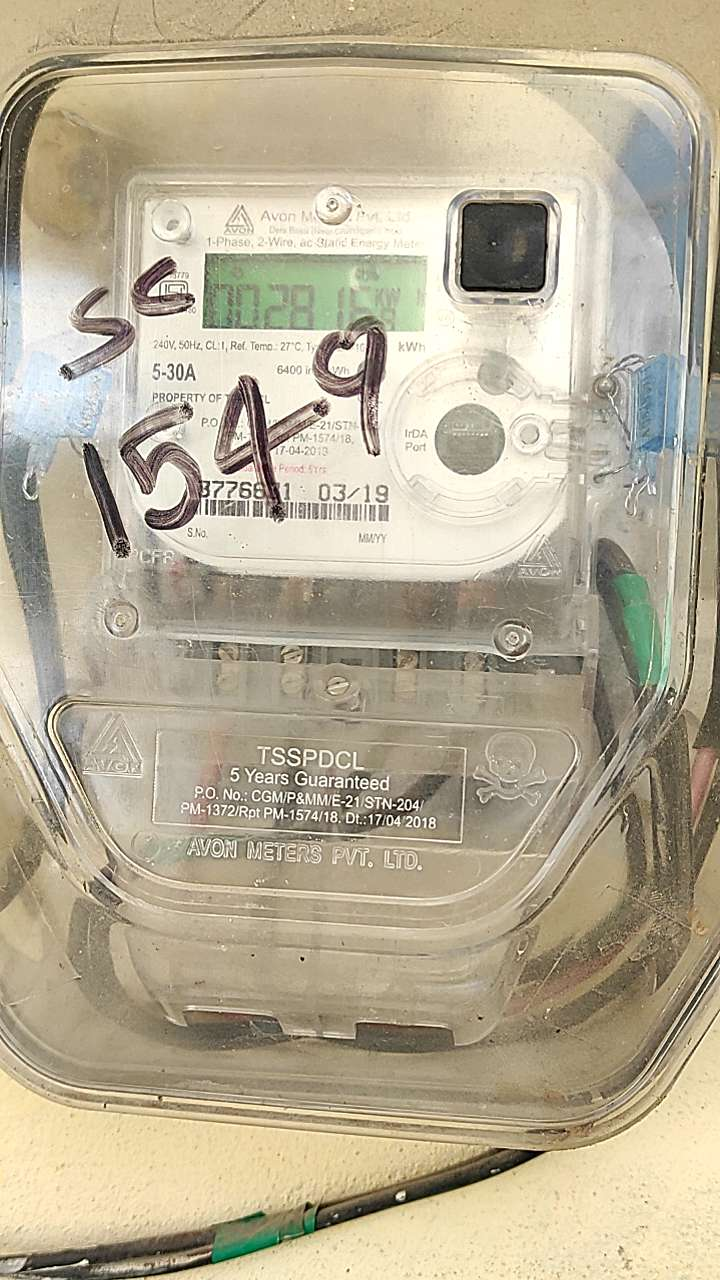meter_serial_number: (194, 475, 298, 506)
